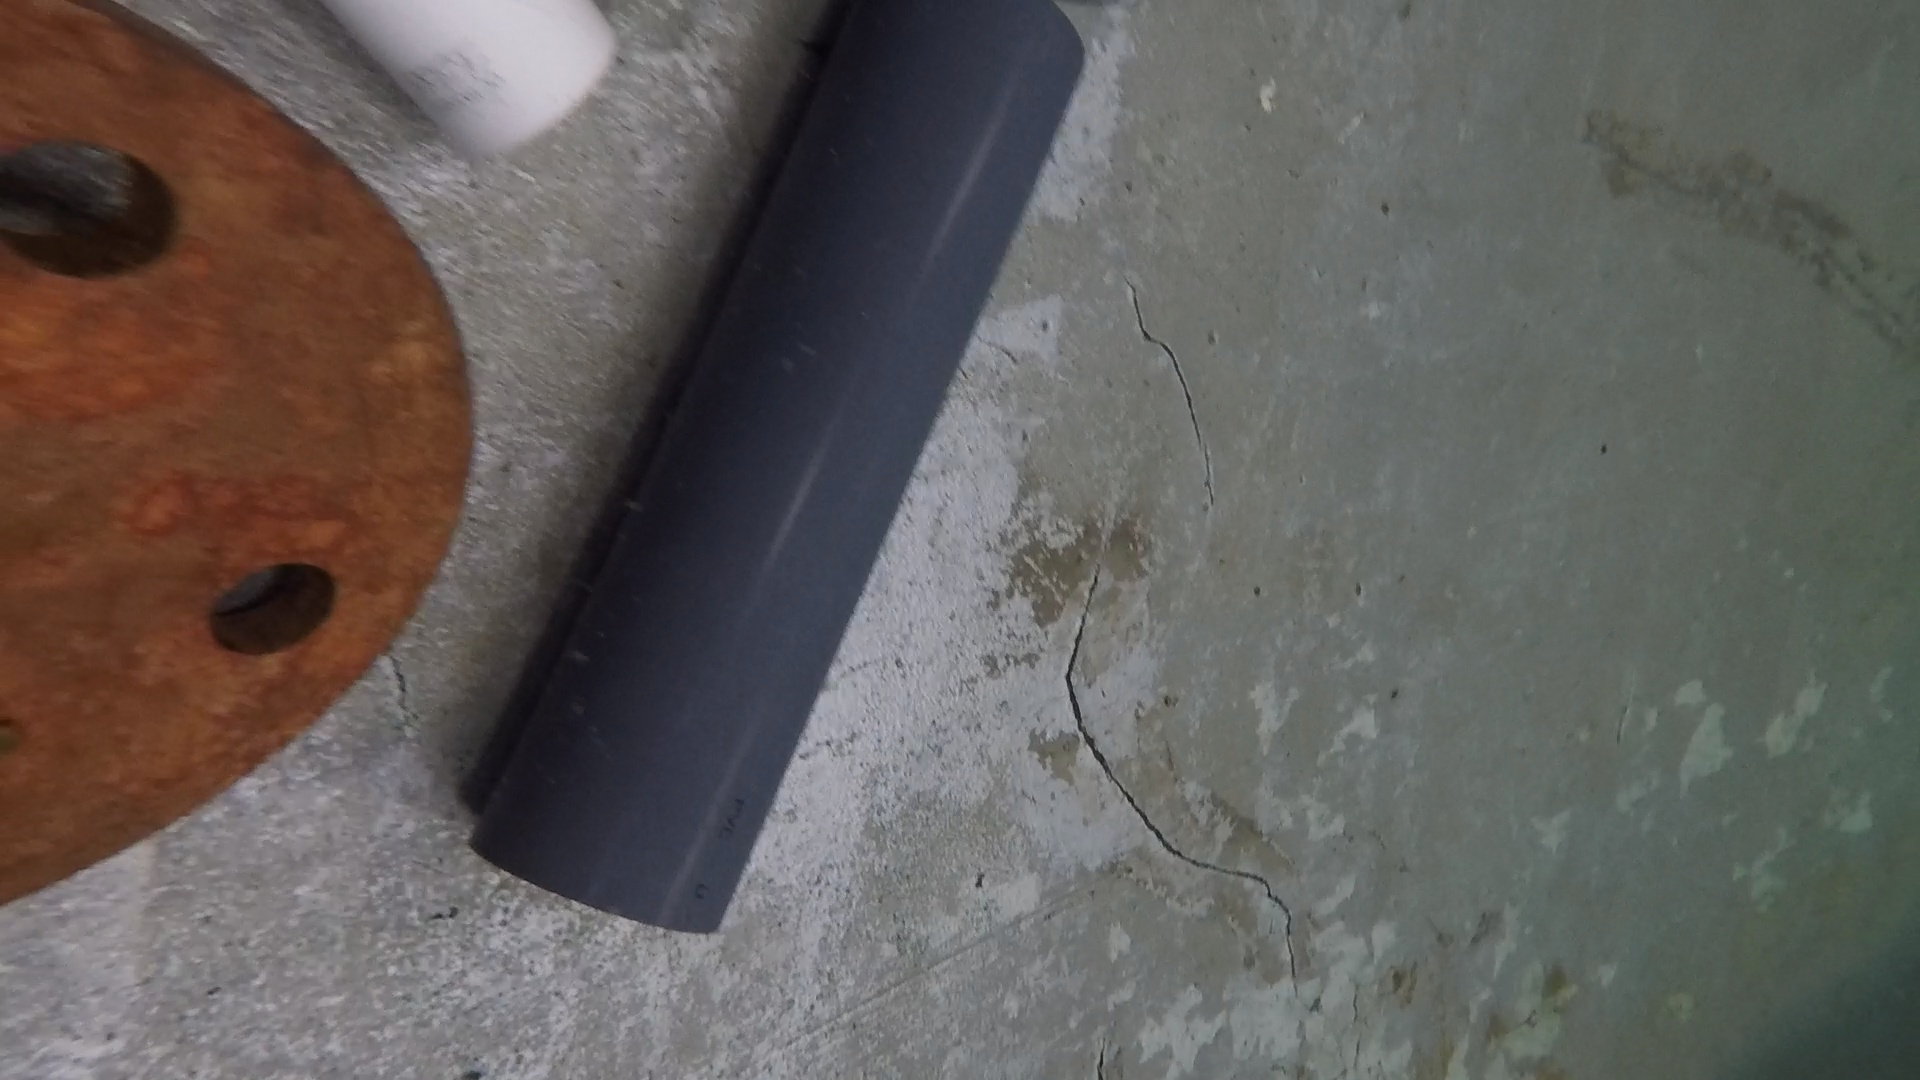flange: (1, 3, 477, 916)
pipe: (467, 1, 1087, 934), (319, 1, 617, 164)
